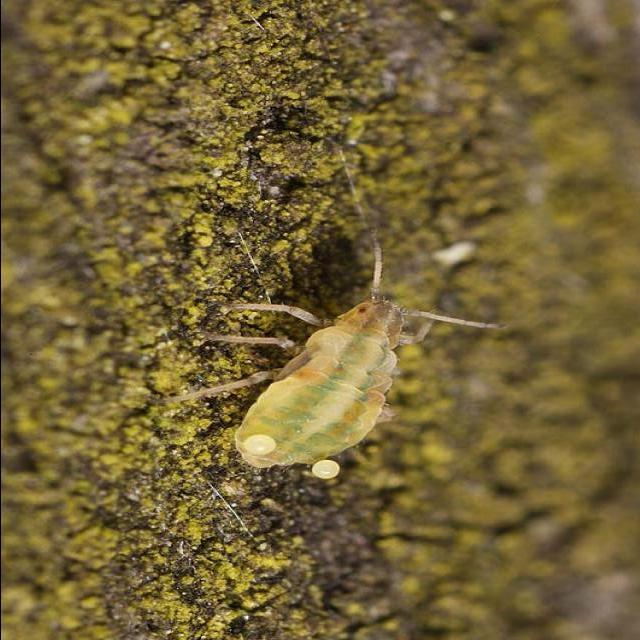aphid: (176, 220, 521, 494)
